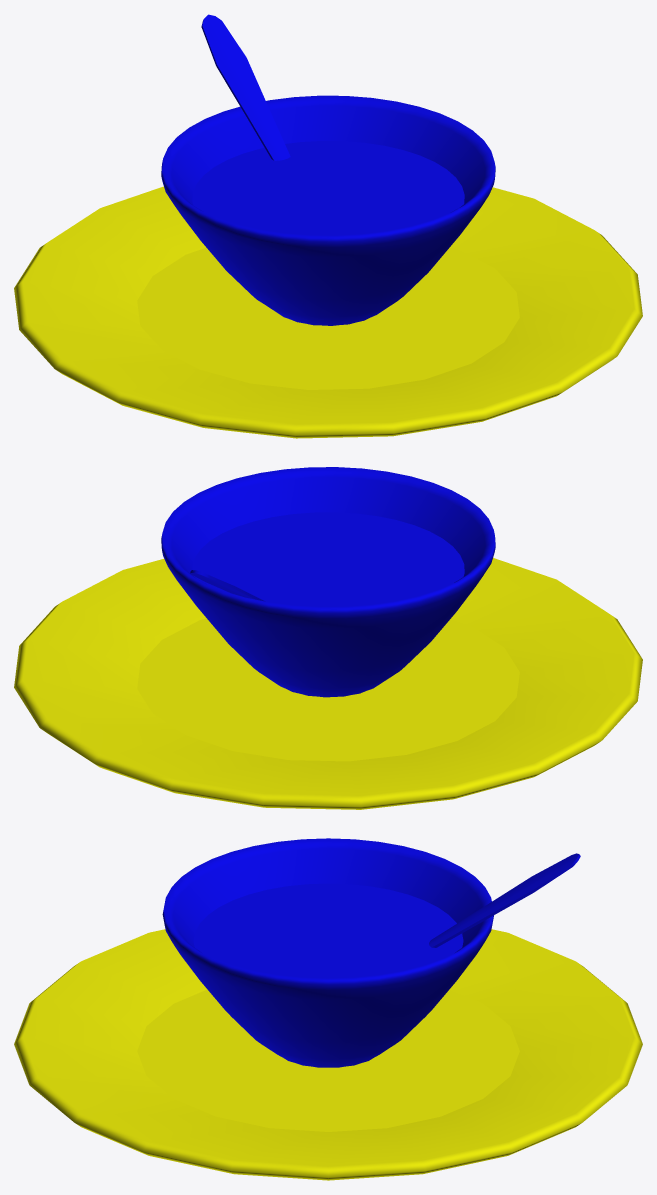
The model's file is KitchenSoup1.fbx.
The picture shows the model from 3 angles, top to bottom: view 1: azimuth 30°, elevation 25°; view 2: azimuth 150°, elevation 25°; view 3: azimuth 270°, elevation 25°; orthographic projection.
Visible parts, largest first — view 1: Soup1; view 2: Soup1; view 3: Soup1.
Part boxes in pixels (bbox=[...]): Soup1: bbox=[14, 14, 642, 438]; Soup1: bbox=[14, 467, 642, 809]; Soup1: bbox=[14, 838, 642, 1180].
Size of the model in its own units: 27.2 by 10.95 by 27.2.
